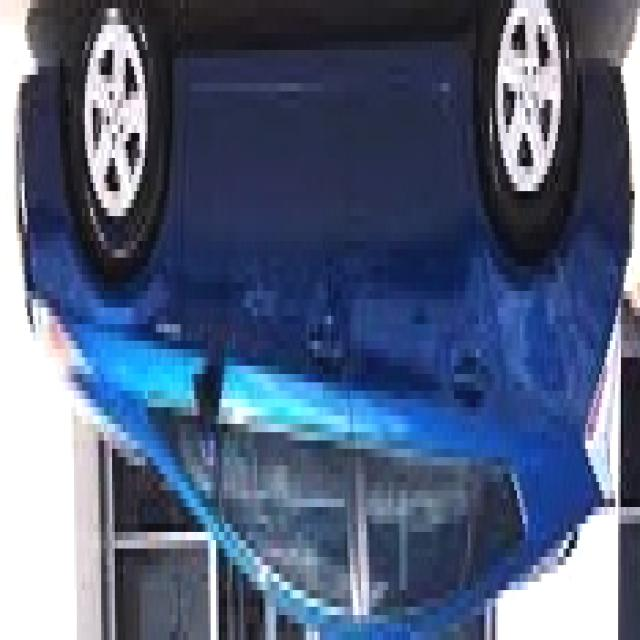blue: (14, 9, 631, 638)
